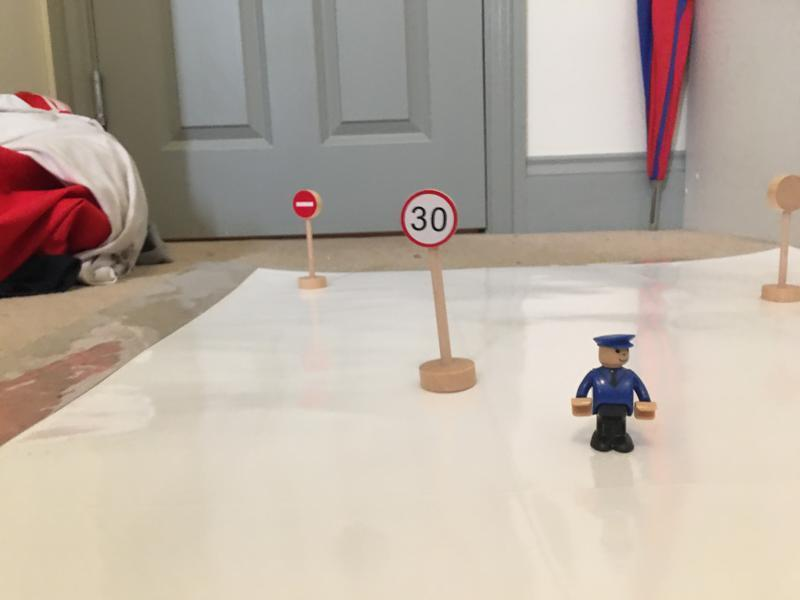Traffic_Sign_30: (399, 190, 458, 247)
Traffic_Sign_No_Entry: (291, 189, 317, 218)
person: (567, 326, 662, 459)
